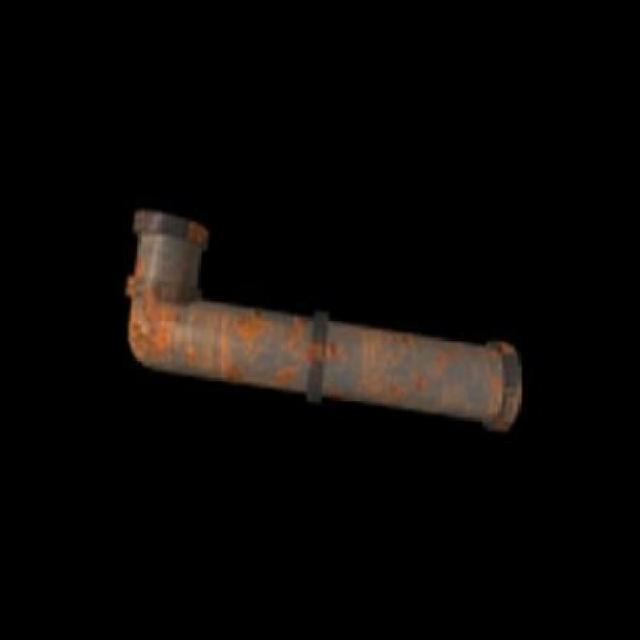corrosion: (124, 206, 524, 437)
